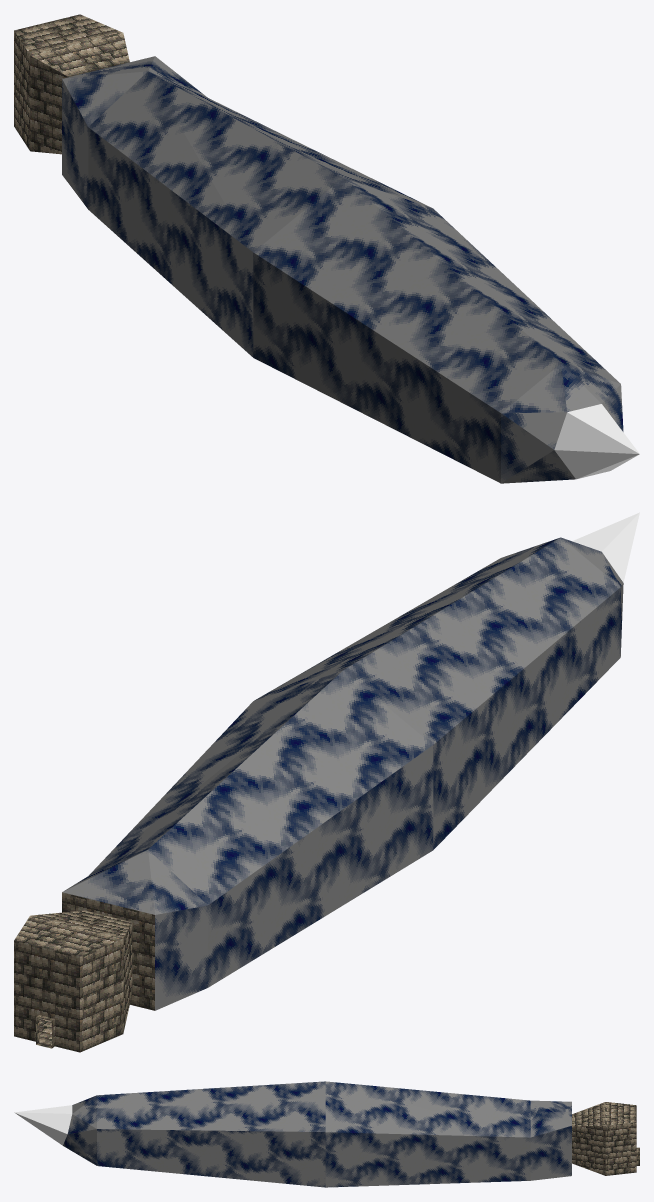
Rendered from roomB.obj.
The picture shows the model from 3 angles, top to bottom: view 1: azimuth 30°, elevation 25°; view 2: azimuth 150°, elevation 25°; view 3: azimuth 270°, elevation 25°; orthographic projection. The views are drawn at different scales.
Visible parts, largest first — view 1: mesh.009__256.005, mesh.009__198.007, mesh.009__120.006; view 2: mesh.009__256.005, mesh.009__198.007, mesh.009__120.006; view 3: mesh.009__256.005, mesh.009__198.007, mesh.009__120.006.
Boxes of the visible parts, x1,y1,x2,y2 form: mesh.009__256.005: (62, 56, 623, 483); mesh.009__198.007: (14, 14, 129, 154); mesh.009__120.006: (554, 404, 639, 479); mesh.009__256.005: (62, 537, 623, 1010); mesh.009__198.007: (14, 892, 154, 1052); mesh.009__120.006: (572, 512, 639, 582); mesh.009__256.005: (63, 1081, 571, 1187); mesh.009__198.007: (572, 1102, 639, 1175); mesh.009__120.006: (14, 1105, 72, 1145).
Bounding box in the file's own units: 686 × 583 × 3937.
Materials: 5 (5 with a texture image).
